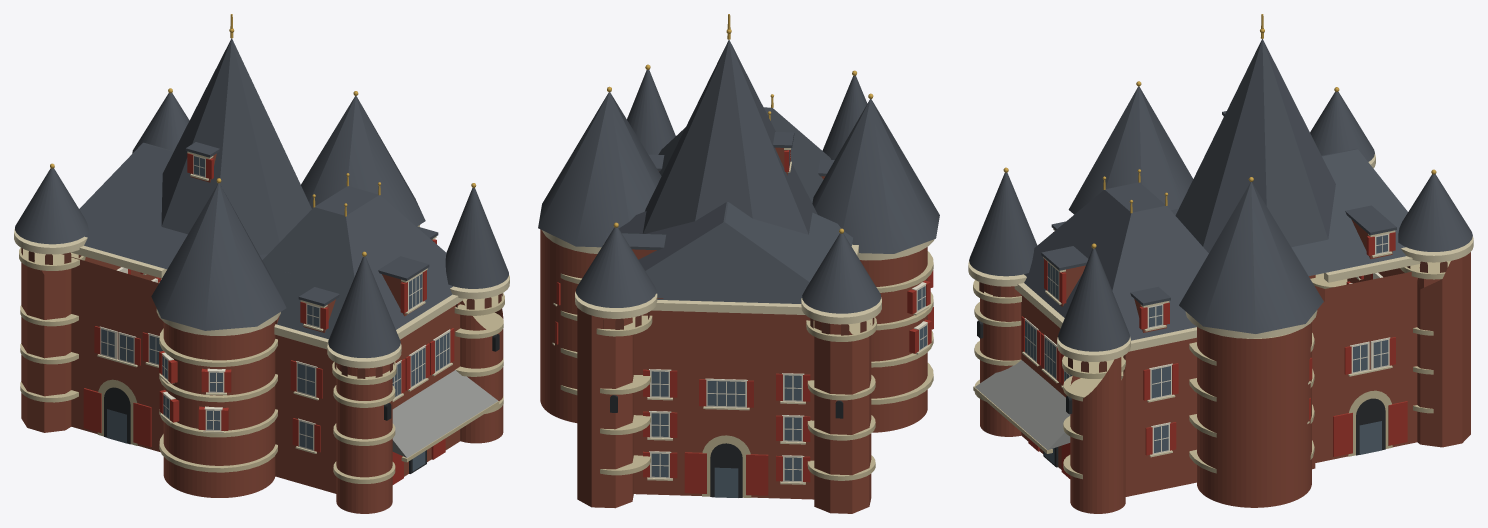
The model's file is waag.glb.
The picture shows the model from 3 angles, left to right: view 1: azimuth 30°, elevation 25°; view 2: azimuth 150°, elevation 25°; view 3: azimuth 270°, elevation 25°; orthographic projection. The views are drawn at different scales.
Parts seen in each view (by area): view 1: waag; view 2: waag; view 3: waag.
Boxes of the visible parts, x1=… form: waag: x1=14, y1=14, x2=509, y2=513; waag: x1=538, y1=14, x2=939, y2=513; waag: x1=968, y1=14, x2=1473, y2=513.
Bounding box in the file's own units: 26.2 × 27.2 × 30.66.
